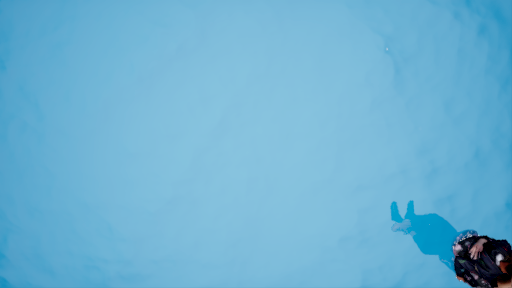person: (382, 199, 511, 288)
